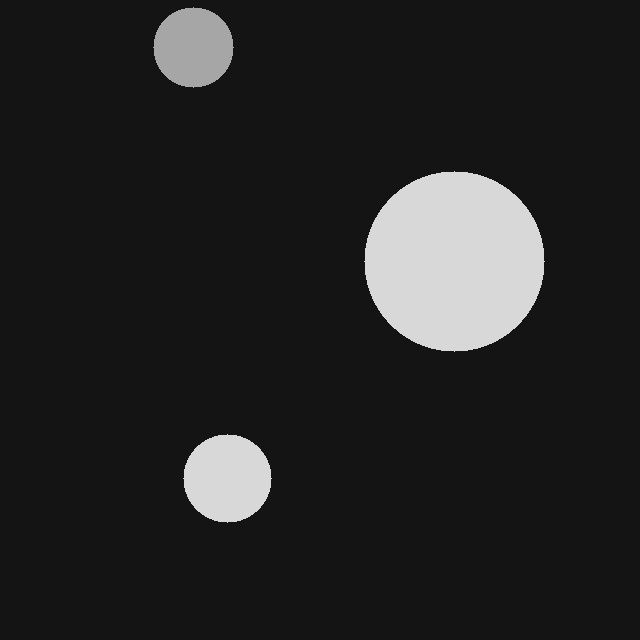circle: (364, 171, 544, 351), (183, 434, 271, 522), (153, 7, 233, 87)
